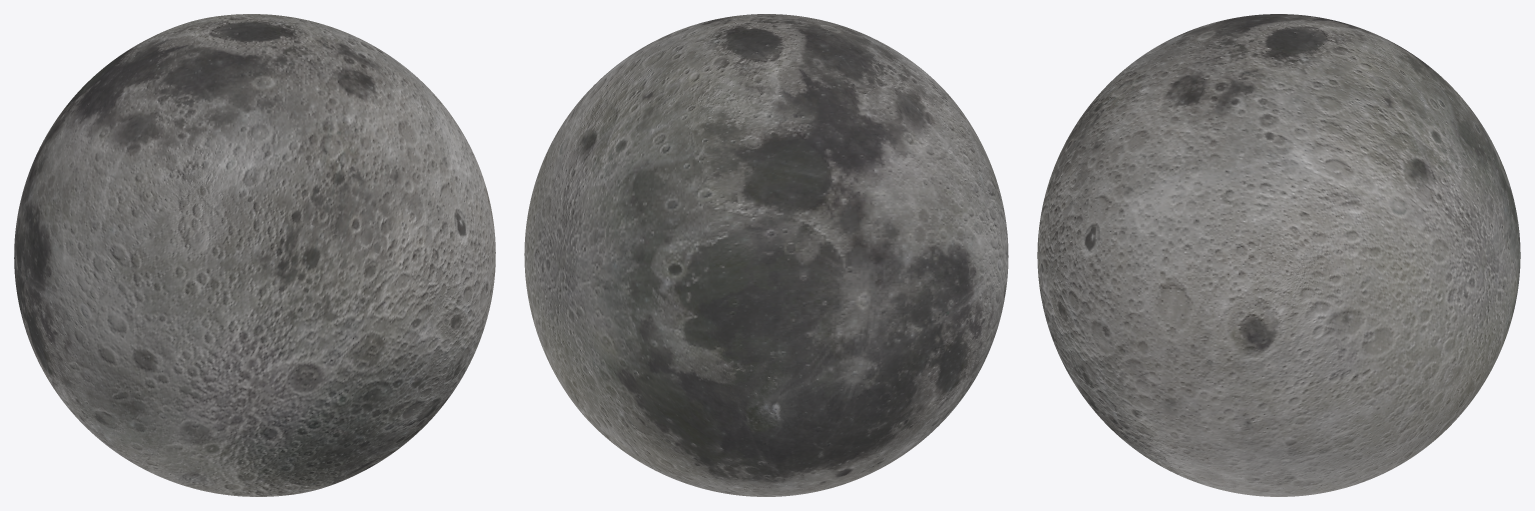
The model's file is moon_2k.glb.
3 views of the same model, side by side, from view 1: azimuth 30°, elevation 25°; view 2: azimuth 150°, elevation 25°; view 3: azimuth 270°, elevation 25° (orthographic).
Visible parts, largest first — view 1: Subdivision_Surface_1; view 2: Subdivision_Surface_1; view 3: Subdivision_Surface_1.
Boxes of the visible parts, x1,y1,x2,y2 form: Subdivision_Surface_1: (14, 14, 495, 496); Subdivision_Surface_1: (524, 14, 1008, 496); Subdivision_Surface_1: (1037, 14, 1520, 496).
Size of the model in its own units: 346 by 345 by 345.
Materials: 1 (1 with a texture image).
